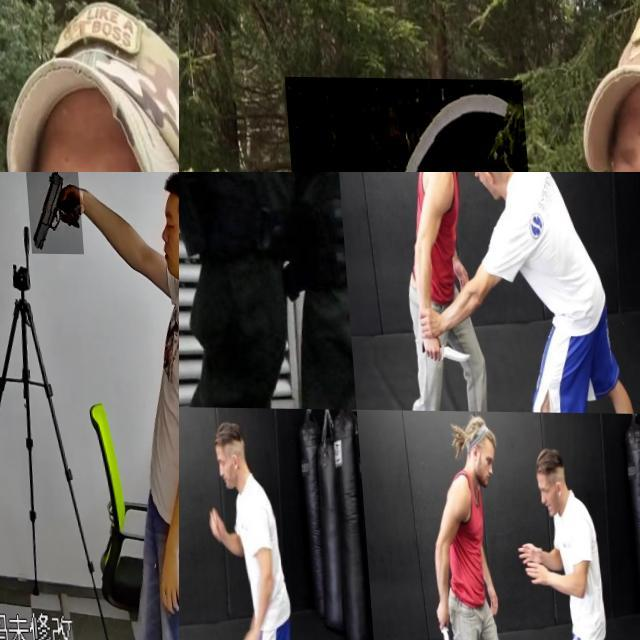-: (282, 76, 540, 172), (0, 0, 104, 172), (179, 172, 213, 403), (413, 330, 470, 364), (424, 601, 444, 640), (179, 626, 199, 640)
gun-knife-thesis - v11 Yolov5 augmented: (23, 172, 80, 253)
